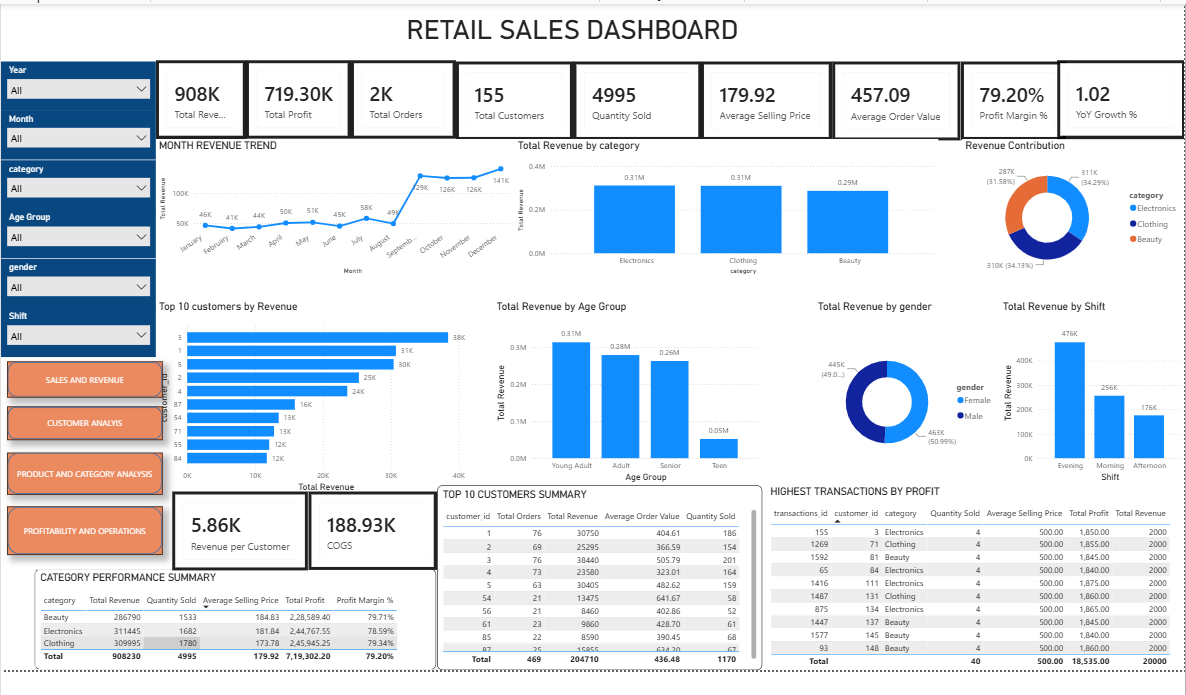

What the dashboard file says about the page in this screenshot:
{"tool":"powerbi","page":{"name":"EXECUTIVE OVERVIEW ","canvas":[1920,1080],"ordinal":0},"visuals":[{"type":"cardVisual","fields":{"Data":["RETAILSALES.Total Revenue"]},"box":[251.4,91.4,146,127.8],"z":0},{"type":"cardVisual","fields":{"Data":["RETAILSALES.Average Order Value"]},"box":[1348.3,93.3,208.3,128.3],"z":1000},{"type":"cardVisual","fields":{"Data":["RETAILSALES.Total Customers"]},"box":[738.2,93.3,190.8,127.9],"z":2000},{"type":"cardVisual","fields":{"Data":["RETAILSALES.Average Selling Price"]},"box":[1135.6,93.3,212.9,127.8],"z":3000},{"type":"cardVisual","fields":{"Data":["RETAILSALES.Total Quantity Sold"]},"box":[928.8,93.3,207.1,127.9],"z":4000},{"type":"cardVisual","fields":{"Data":["RETAILSALES.Total Orders"]},"box":[567.8,91.3,170,127.5],"z":5000},{"type":"cardVisual","fields":{"Data":["RETAILSALES.Total Profit"]},"box":[397.5,91.3,170,127.5],"z":6000},{"type":"cardVisual","fields":{"Data":["RETAILSALES.Profit Margin %"]},"box":[1556.7,93.3,170,127.5],"z":7000},{"type":"lineChart","title":"MONTH REVENUE TREND","fields":{"Category":["Calendar.Date.Variation.Date Hierarchy.Month"],"Y":["RETAILSALES.Total Revenue"]},"box":[251.5,219,582,225.1],"z":8000},{"type":"clusteredColumnChart","fields":{"Category":["RETAILSALES.category"],"Y":["RETAILSALES.Total Revenue"]},"box":[833.5,219,687.5,225.1],"z":9000},{"type":"donutChart","title":"Revenue Contribution","fields":{"Category":["RETAILSALES.category"],"Y":["RETAILSALES.Total Revenue"]},"box":[1559.4,219,361,225.1],"z":10000},{"type":"clusteredBarChart","title":"Top 10 customers by Revenue ","fields":{"Category":["RETAILSALES.customer_id"],"Y":["RETAILSALES.Total Revenue"]},"box":[251.5,480.6,517.1,316.4],"z":11000},{"type":"clusteredColumnChart","fields":{"Category":["RETAILSALES.Age Group"],"Y":["RETAILSALES.Total Revenue"]},"box":[799,480.6,436,300],"z":12000},{"type":"donutChart","fields":{"Category":["RETAILSALES.gender"],"Y":["RETAILSALES.Total Revenue"]},"box":[1320.2,480.6,300,300],"z":13000},{"type":"clusteredColumnChart","fields":{"Category":["RETAILSALES.Shift"],"Y":["RETAILSALES.Total Revenue"]},"box":[1620.3,480.6,300,300],"z":14000},{"type":"tableEx","title":"CATEGORY PERFORMANCE SUMMARY","fields":{"Values":["RETAILSALES.category","RETAILSALES.Total Revenue","RETAILSALES.Total Quantity Sold","RETAILSALES.Average Selling Price","RETAILSALES.Total Profit","RETAILSALES.Profit Margin %"]},"box":[55.7,917.1,651.4,162.9],"z":15000},{"type":"tableEx","title":"TOP 10 CUSTOMERS SUMMARY","fields":{"Values":["RETAILSALES.customer_id","RETAILSALES.Total Orders","RETAILSALES.Total Revenue","RETAILSALES.Average Order Value","RETAILSALES.Total Quantity Sold"]},"box":[707.7,780.7,527.3,300.1],"z":16000},{"type":"tableEx","title":"HIGHEST TRANSACTIONS BY PROFIT","fields":{"Values":["RETAILSALES.transactions_id","RETAILSALES.customer_id","RETAILSALES.category","RETAILSALES.Quantity Sold","RETAILSALES.Average Selling Price","RETAILSALES.Total Profit","RETAILSALES.Total Revenue"]},"box":[1243.1,780.7,677.3,300.1],"z":17000},{"type":"cardVisual","fields":{"Data":["RETAILSALES.YoY Growth %"]},"box":[1713.6,91.3,207.1,127.9],"z":18000},{"type":"slicer","fields":{"Values":["Calendar.Year"]},"box":[0,93.3,251.5,80],"z":19000},{"type":"slicer","fields":{"Values":["Calendar.Date.Variation.Date Hierarchy.Month"]},"box":[0,173.3,251.5,80],"z":20000},{"type":"slicer","fields":{"Values":["RETAILSALES.category"]},"box":[0,253.3,251.5,80],"z":21000},{"type":"slicer","fields":{"Values":["RETAILSALES.Age Group"]},"box":[0,333.3,251.5,80],"z":22000},{"type":"slicer","fields":{"Values":["RETAILSALES.gender"]},"box":[0,413.3,251.5,80],"z":23000},{"type":"slicer","fields":{"Values":["RETAILSALES.Shift"]},"box":[0,493.3,251.5,80],"z":24000},{"type":"cardVisual","fields":{"Data":["RETAILSALES.Revenue per Customer"]},"box":[278,790,220,128],"z":25000},{"type":"cardVisual","fields":{"Data":["Sum(RETAILSALES.cogs)"]},"box":[498.6,790,208.6,127.1],"z":26000},{"type":"shape","title":"CUSTOMER ANALYSIS","box":[10,652,252,54],"z":27000},{"type":"textbox","title":"RETAIL SALES DASHBOARD","box":[652,16,550,58],"z":28000},{"type":"shape","title":"SALES AND REVNEUE","box":[10,580,252,58],"z":29000},{"type":"shape","title":"PRODUCT AND CATEGORY ANALYSIS","box":[10,728,252,68],"z":30000},{"type":"shape","title":"PROFITABILITY AND OPERATIONS","box":[10,816,252,78],"z":31000}]}

Visuals, with their boxes on the page's 1920x1080 design canvas (x1, y1, x2, y2). These are canvas units, not pixel positions in the 1186x695 screenshot, which may show the page scaled, cropped or inside an application window:
cardVisual - RETAILSALES.Total Revenue: x1=251, y1=91, x2=397, y2=219
cardVisual - RETAILSALES.Average Order Value: x1=1348, y1=93, x2=1557, y2=222
cardVisual - RETAILSALES.Total Customers: x1=738, y1=93, x2=929, y2=221
cardVisual - RETAILSALES.Average Selling Price: x1=1136, y1=93, x2=1348, y2=221
cardVisual - RETAILSALES.Total Quantity Sold: x1=929, y1=93, x2=1136, y2=221
cardVisual - RETAILSALES.Total Orders: x1=568, y1=91, x2=738, y2=219
cardVisual - RETAILSALES.Total Profit: x1=398, y1=91, x2=568, y2=219
cardVisual - RETAILSALES.Profit Margin %: x1=1557, y1=93, x2=1727, y2=221
"MONTH REVENUE TREND" lineChart: x1=252, y1=219, x2=834, y2=444
clusteredColumnChart - RETAILSALES.category x RETAILSALES.Total Revenue: x1=834, y1=219, x2=1521, y2=444
"Revenue Contribution" donutChart: x1=1559, y1=219, x2=1920, y2=444
"Top 10 customers by Revenue " clusteredBarChart: x1=252, y1=481, x2=769, y2=797
clusteredColumnChart - RETAILSALES.Age Group x RETAILSALES.Total Revenue: x1=799, y1=481, x2=1235, y2=781
donutChart - RETAILSALES.gender x RETAILSALES.Total Revenue: x1=1320, y1=481, x2=1620, y2=781
clusteredColumnChart - RETAILSALES.Shift x RETAILSALES.Total Revenue: x1=1620, y1=481, x2=1920, y2=781
"CATEGORY PERFORMANCE SUMMARY" tableEx: x1=56, y1=917, x2=707, y2=1080
"TOP 10 CUSTOMERS SUMMARY" tableEx: x1=708, y1=781, x2=1235, y2=1081
"HIGHEST TRANSACTIONS BY PROFIT" tableEx: x1=1243, y1=781, x2=1920, y2=1081
cardVisual - RETAILSALES.YoY Growth %: x1=1714, y1=91, x2=1921, y2=219
slicer - Calendar.Year: x1=0, y1=93, x2=252, y2=173
slicer - Calendar.Date.Variation.Date Hierarchy.Month: x1=0, y1=173, x2=252, y2=253
slicer - RETAILSALES.category: x1=0, y1=253, x2=252, y2=333
slicer - RETAILSALES.Age Group: x1=0, y1=333, x2=252, y2=413
slicer - RETAILSALES.gender: x1=0, y1=413, x2=252, y2=493
slicer - RETAILSALES.Shift: x1=0, y1=493, x2=252, y2=573
cardVisual - RETAILSALES.Revenue per Customer: x1=278, y1=790, x2=498, y2=918
cardVisual - Sum(RETAILSALES.cogs): x1=499, y1=790, x2=707, y2=917
"CUSTOMER ANALYSIS" shape: x1=10, y1=652, x2=262, y2=706
"RETAIL SALES DASHBOARD" textbox: x1=652, y1=16, x2=1202, y2=74
"SALES AND REVNEUE" shape: x1=10, y1=580, x2=262, y2=638
"PRODUCT AND CATEGORY ANALYSIS" shape: x1=10, y1=728, x2=262, y2=796
"PROFITABILITY AND OPERATIONS" shape: x1=10, y1=816, x2=262, y2=894
